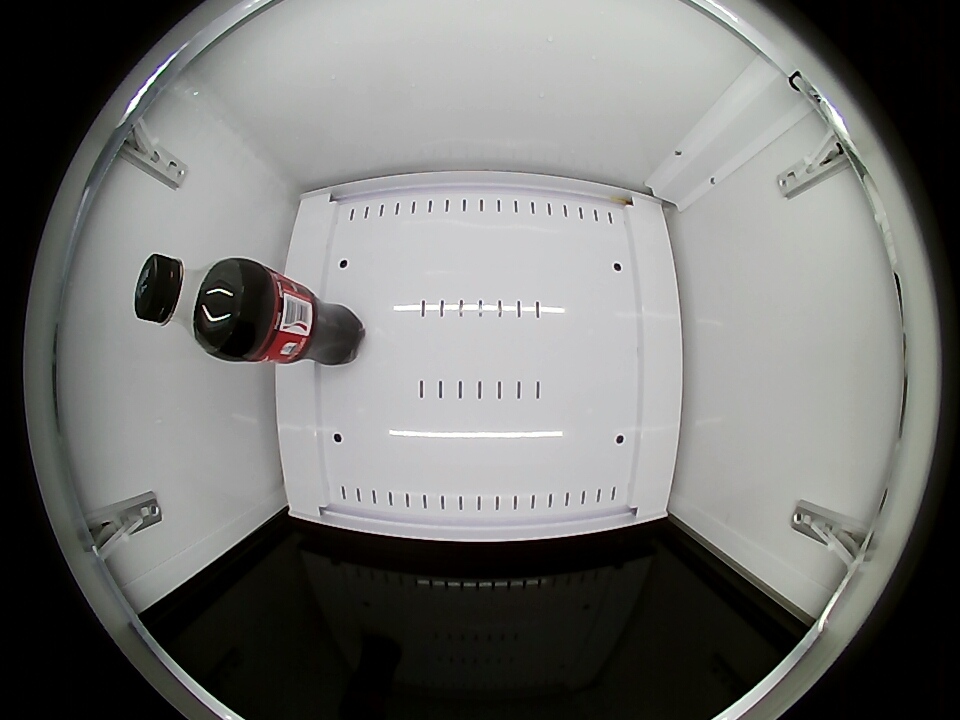lingdukele-b: (135, 254, 245, 353)
